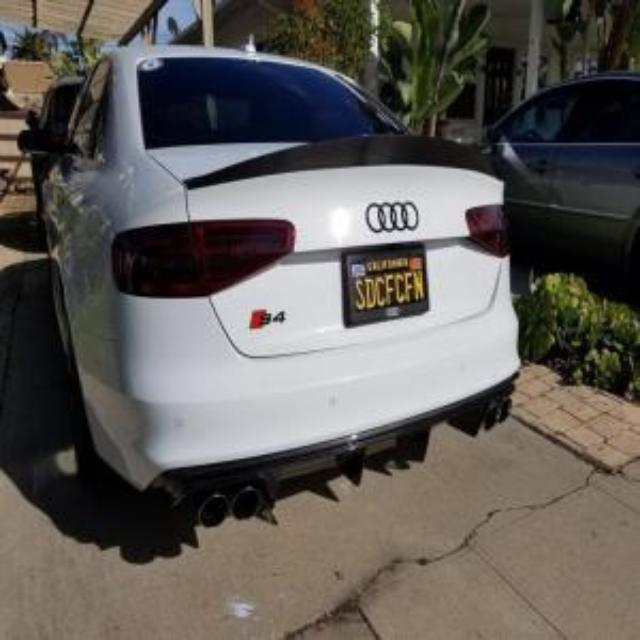license_plate: (344, 247, 429, 323)
